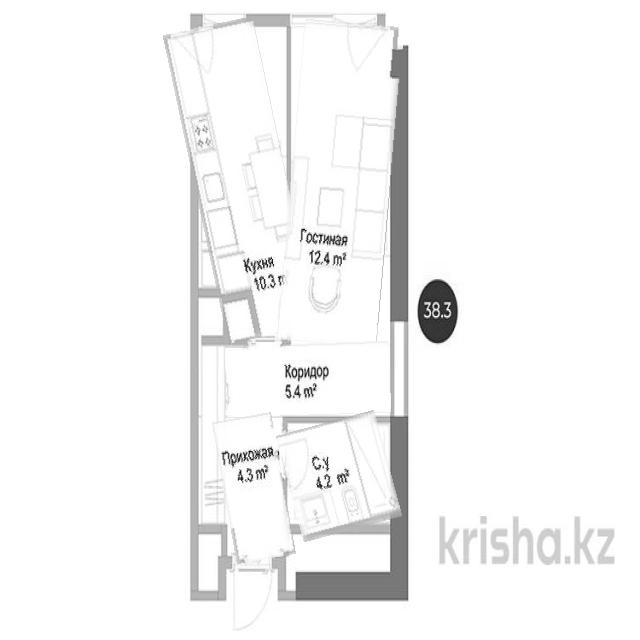bathroom: (282, 415, 396, 537)
hallway: (226, 343, 390, 417), (218, 414, 290, 562)
kitchen: (179, 19, 303, 341)
living_room: (284, 21, 398, 347)
